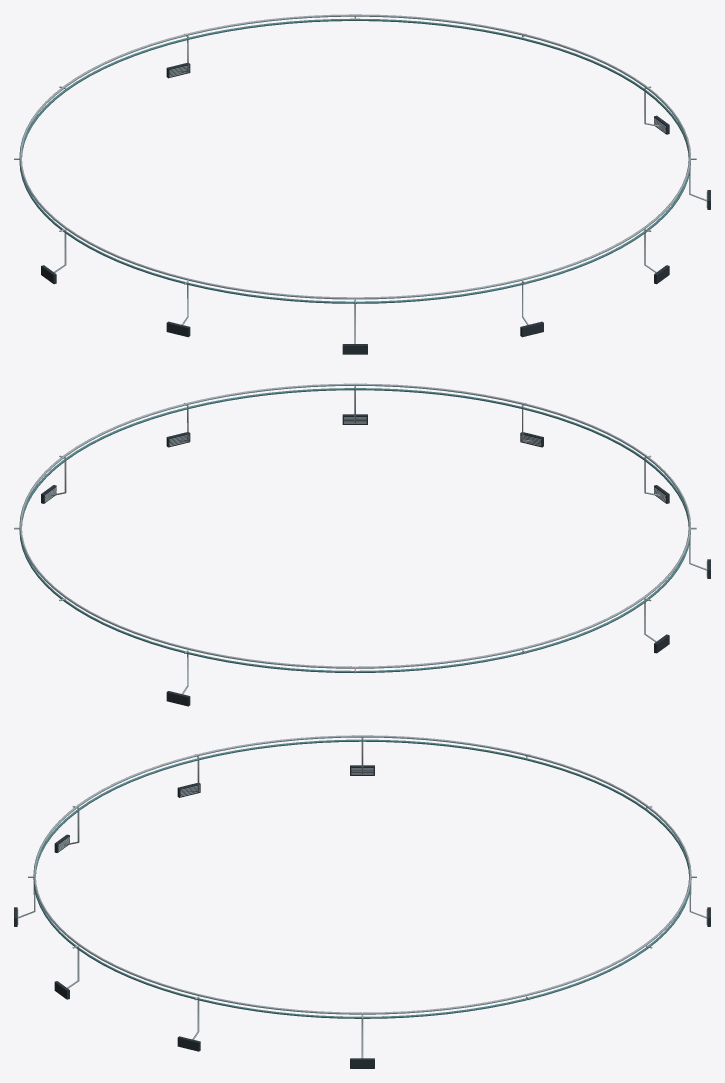
Rendered from RD_N01_Services.fbx.
3 views of the same model, one above another, from view 1: azimuth 30°, elevation 25°; view 2: azimuth 150°, elevation 25°; view 3: azimuth 270°, elevation 25° (orthographic). The views are drawn at different scales.
Parts seen in each view (by area): view 1: RD_N01_Services; view 2: RD_N01_Services; view 3: RD_N01_Services.
Part boxes in pixels (x1,y1,x2,y2): RD_N01_Services: (14,14,710,354); RD_N01_Services: (14,383,710,706); RD_N01_Services: (14,735,710,1068).
Size of the model in its own units: 1928 by 146 by 1928.
